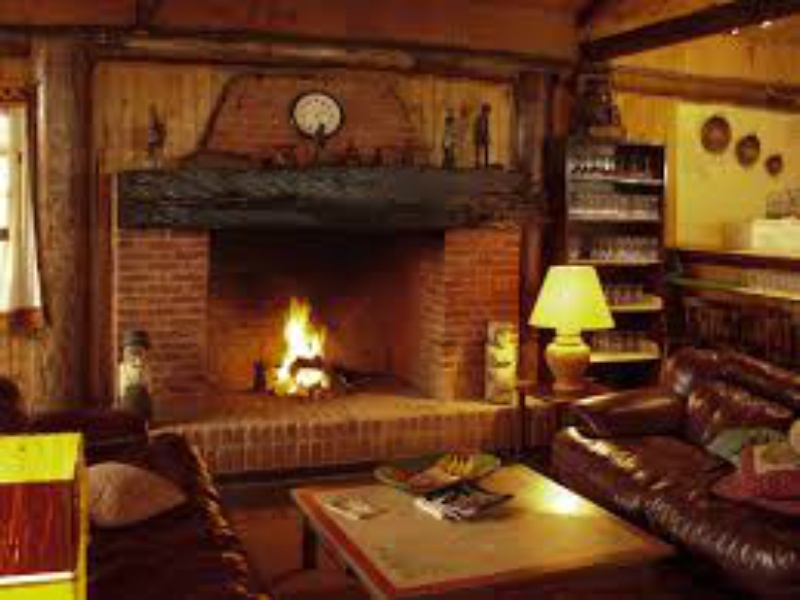fire: (274, 293, 333, 395)
